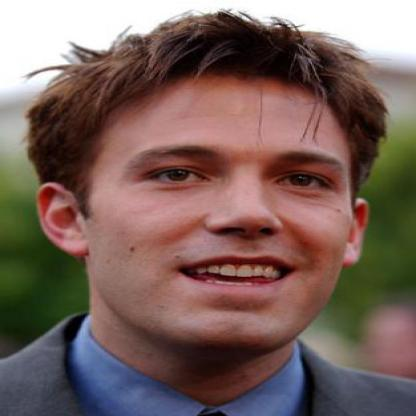face: (82, 32, 369, 363)
